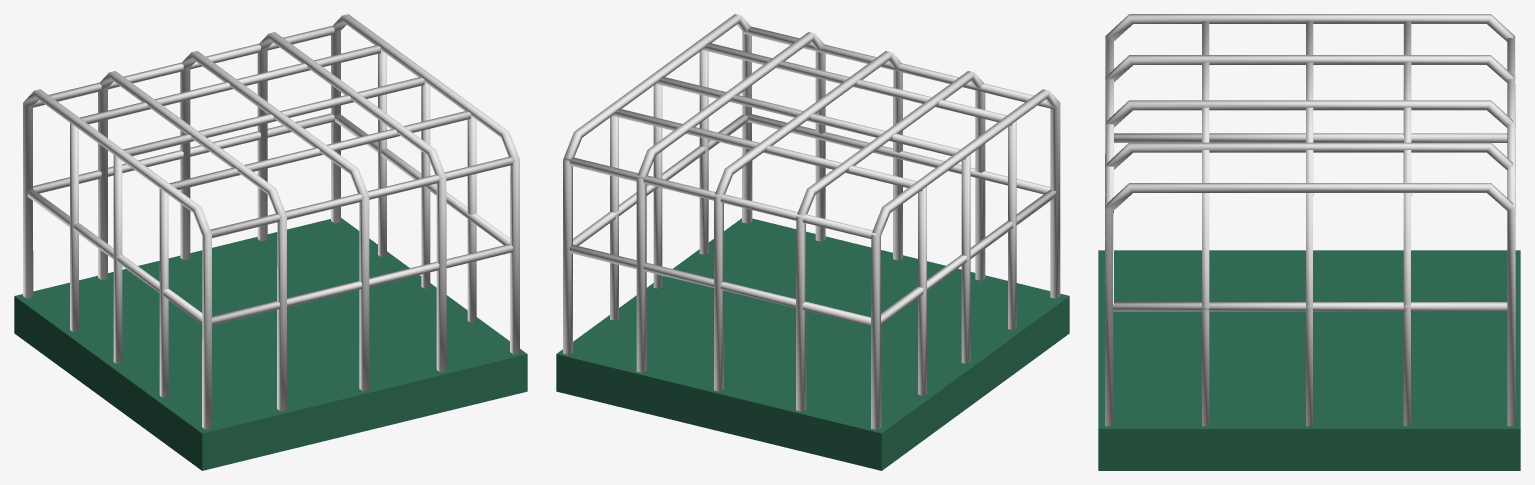
Rendered from animalcage1.fbx.
The picture shows the model from 3 angles, left to right: view 1: azimuth 30°, elevation 25°; view 2: azimuth 150°, elevation 25°; view 3: azimuth 270°, elevation 25°; orthographic projection. The views are drawn at different scales.
Parts seen in each view (by area): view 1: Cube.028; view 2: Cube.028; view 3: Cube.028.
Boxes of the visible parts, bbox=[...] form: Cube.028: bbox=[14, 14, 527, 470]; Cube.028: bbox=[556, 14, 1069, 470]; Cube.028: bbox=[1098, 14, 1520, 470].
Size of the model in its own units: 0.8183 by 0.603 by 0.8183.
